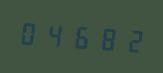eight: (93, 20, 117, 55)
four: (43, 17, 67, 51)
six: (68, 19, 92, 53)
two: (118, 22, 142, 57)
zero: (18, 15, 42, 50)
